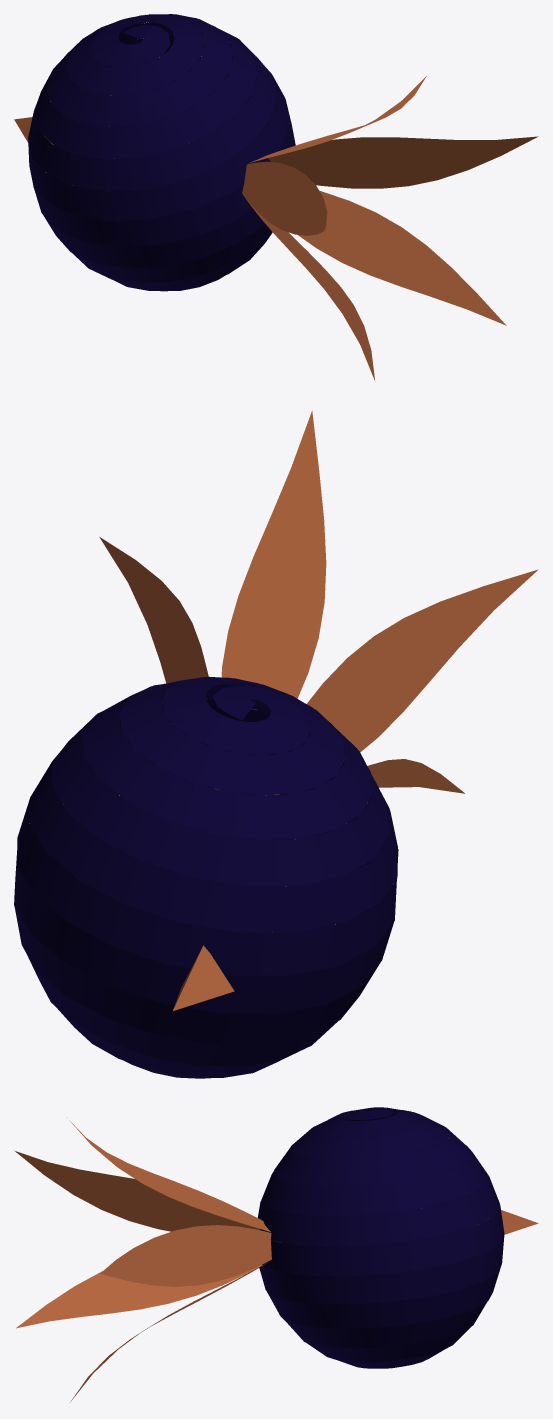
The picture shows the model from 3 angles, top to bottom: view 1: azimuth 30°, elevation 25°; view 2: azimuth 150°, elevation 25°; view 3: azimuth 270°, elevation 25°; orthographic projection. The views are drawn at different scales.
Visible parts, largest first — view 1: brush_Flat_g1_b0, brush_Petal_g1_b0; view 2: brush_Flat_g1_b0, brush_Petal_g1_b0, brush_Spikes_g1_b0; view 3: brush_Flat_g1_b0, brush_Petal_g1_b0, brush_Spikes_g1_b0.
Boxes of the visible parts, x1,y1,x2,y2 form: brush_Flat_g1_b0: (28, 14, 295, 291); brush_Petal_g1_b0: (242, 76, 538, 381); brush_Flat_g1_b0: (14, 676, 398, 1078); brush_Petal_g1_b0: (99, 410, 538, 795); brush_Spikes_g1_b0: (173, 945, 234, 1010); brush_Flat_g1_b0: (257, 1107, 504, 1368); brush_Petal_g1_b0: (14, 1120, 280, 1402); brush_Spikes_g1_b0: (501, 1210, 538, 1234).
Size of the model in its own units: 3.45 by 2.95 by 4.95.
